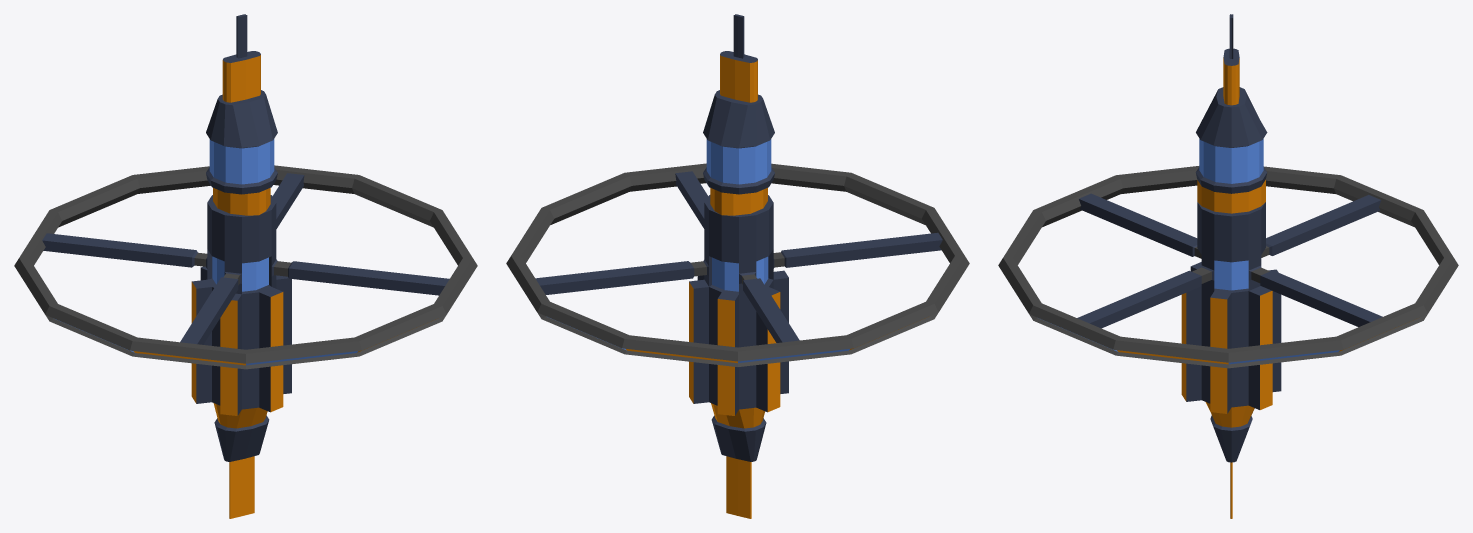
Rendered from ChargeStation.glb.
3 renders of one model, left to right at view 1: azimuth 30°, elevation 25°; view 2: azimuth 150°, elevation 25°; view 3: azimuth 270°, elevation 25°, orthographic.
Visible parts, largest first — view 1: ChargeStation; view 2: ChargeStation; view 3: ChargeStation.
Part boxes in pixels (x1,y1,x2,y2): ChargeStation: (14, 14, 477, 518); ChargeStation: (506, 14, 969, 518); ChargeStation: (998, 14, 1458, 518).
Bounding box in the file's own units: 37.14 × 44.18 × 37.14.
Materials: 1 (1 with a texture image).
